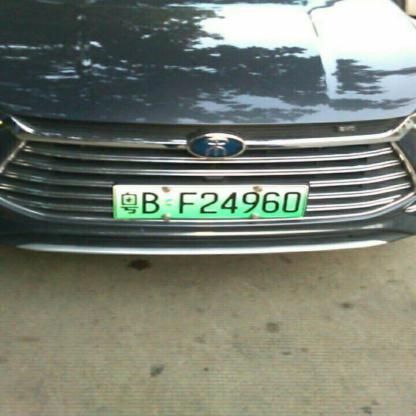lp: (113, 184, 309, 218)
